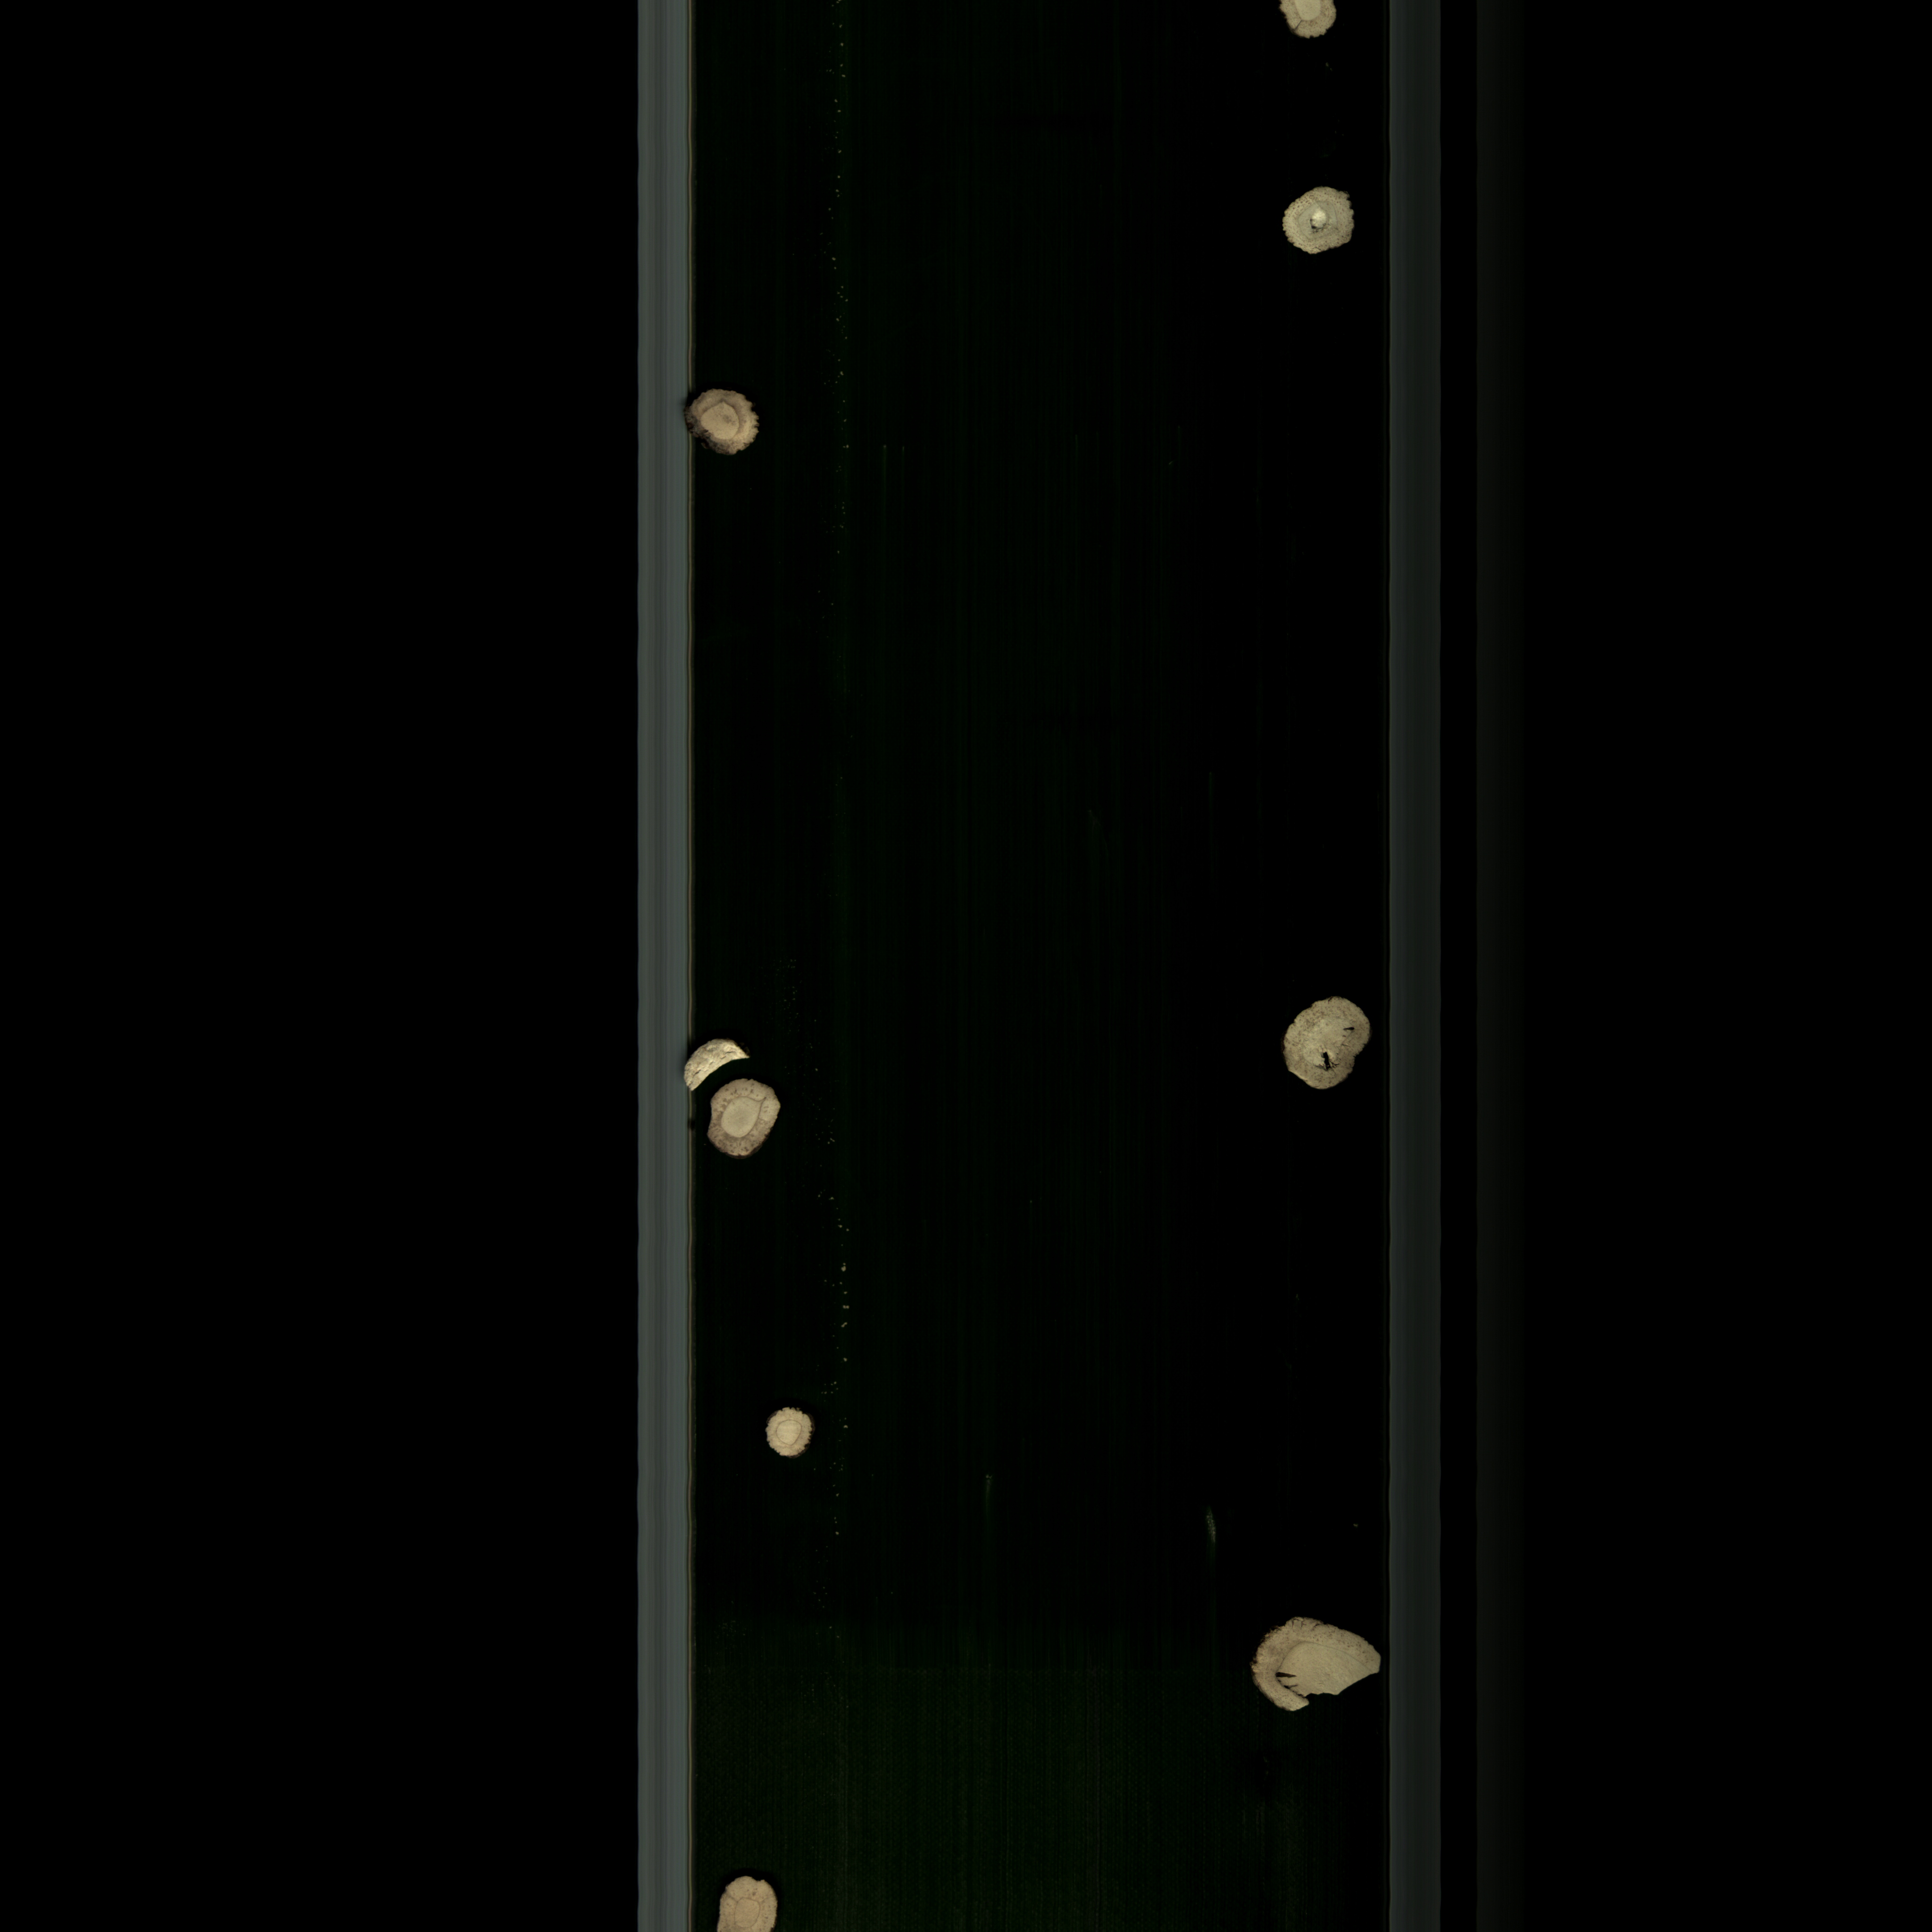debris: (1237, 1606, 1382, 1718)
dreg: (685, 1023, 750, 1106)
hole: (1269, 175, 1375, 264)
moldy: (1265, 984, 1375, 1099), (701, 1074, 791, 1159), (683, 386, 782, 460)
